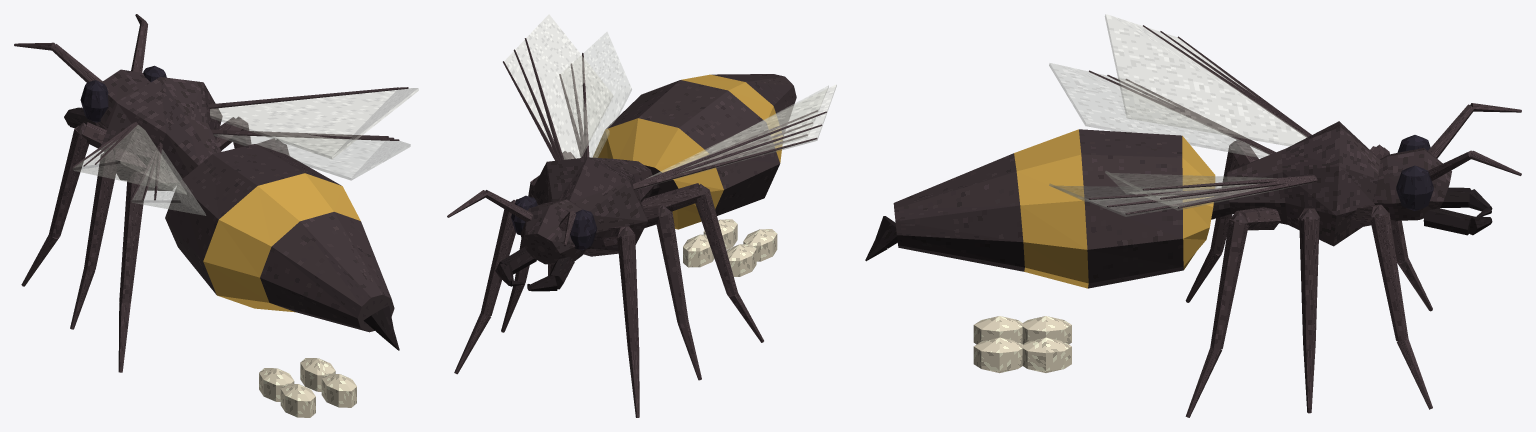
File: mon_wasp_queen.glb
3 views of the same model, side by side, from view 1: azimuth 30°, elevation 25°; view 2: azimuth 150°, elevation 25°; view 3: azimuth 270°, elevation 25° (orthographic). The views are drawn at different scales.
Parts seen in each view (by area): view 1: closed_body, glazing; view 2: closed_body, glazing; view 3: closed_body, glazing.
Boxes of the visible parts, x1,y1,x2,y2 form: closed_body: (14,14,408,417); glazing: (72,88,418,215); closed_body: (447,38,826,417); glazing: (504,14,836,188); closed_body: (865,25,1521,417); glazing: (1049,14,1311,216).
Size of the model in its own units: 1.22 by 0.8945 by 1.97.
2 materials, 2 textured.
